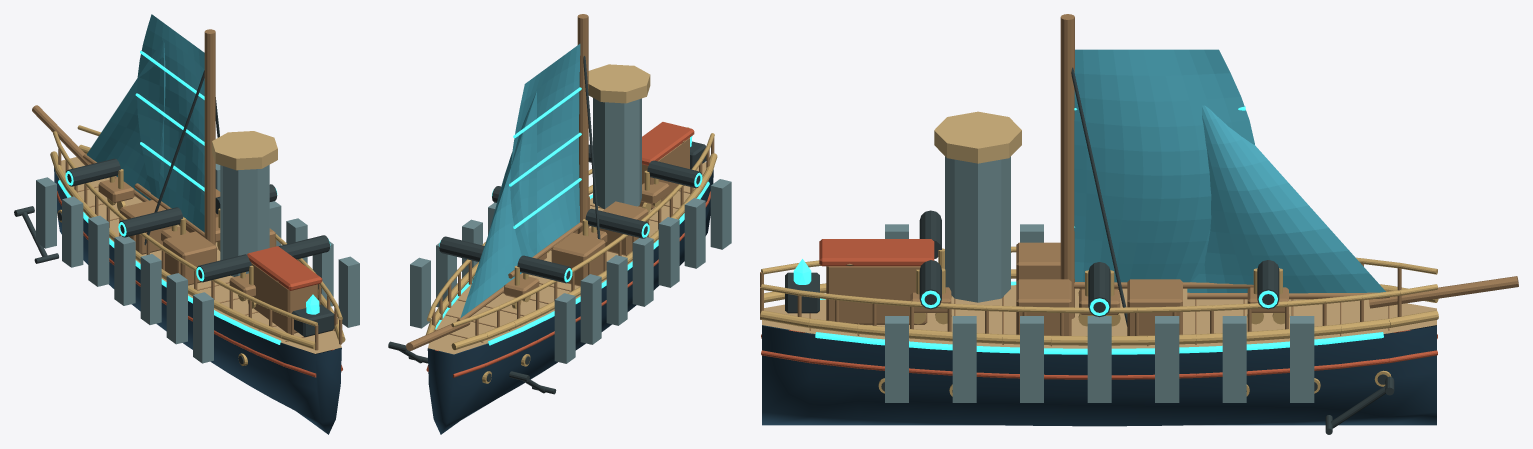
Rendered from ship_combat_cutter.glb.
The picture shows the model from 3 angles, left to right: view 1: azimuth 30°, elevation 25°; view 2: azimuth 150°, elevation 25°; view 3: azimuth 270°, elevation 25°; orthographic projection. The views are drawn at different scales.
Visible parts, largest first — view 1: ship_combat_cutter; view 2: ship_combat_cutter; view 3: ship_combat_cutter.
Boxes of the visible parts, x1=… form: ship_combat_cutter: x1=14, y1=14, x2=359, y2=434; ship_combat_cutter: x1=388, y1=14, x2=731, y2=434; ship_combat_cutter: x1=760, y1=14, x2=1518, y2=434.
Bounding box in the file's own units: 2.96 × 5.68 × 9.56.
